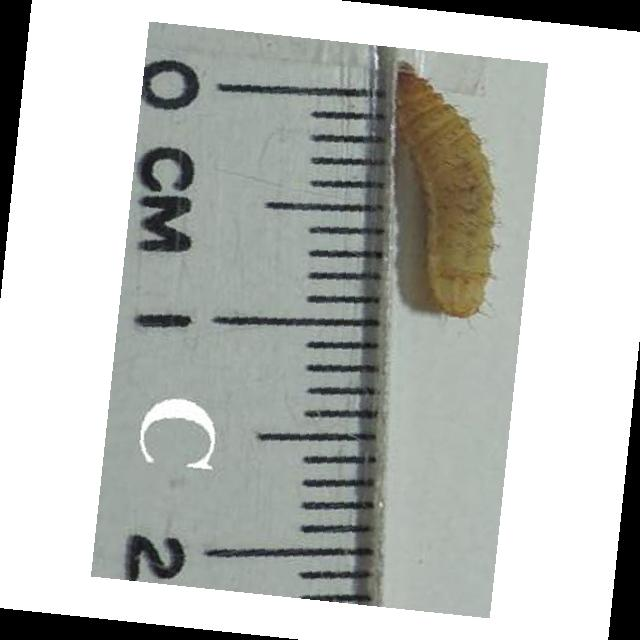Maggot: (390, 58, 506, 316)
